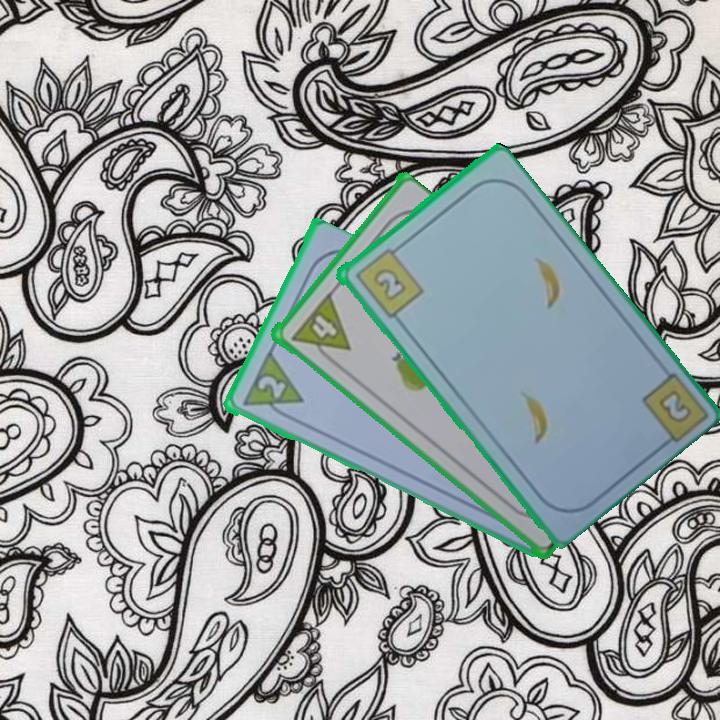2b: (350, 241, 426, 321), (654, 386, 694, 426)
2p: (253, 372, 288, 402)
4p: (287, 290, 353, 368)
